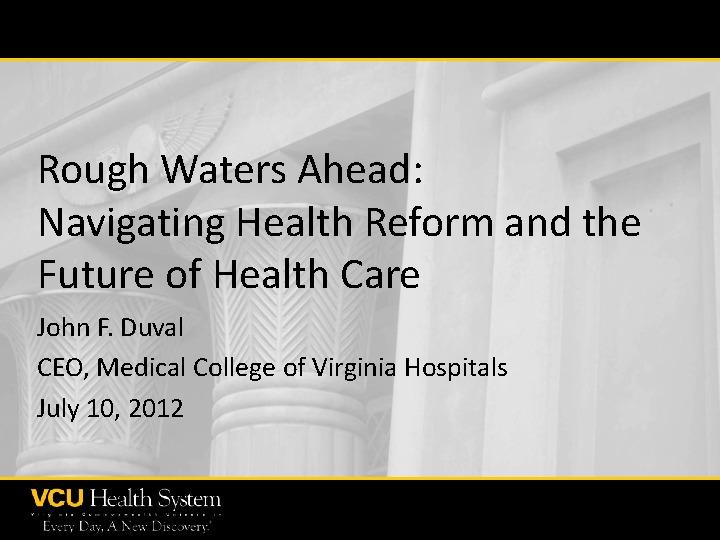subtitle: (23, 480, 261, 540)
title: (21, 134, 660, 436)
